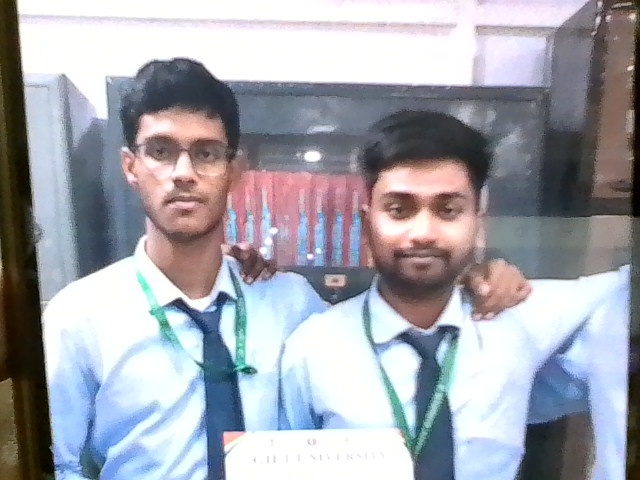real: (357, 117, 485, 298), (124, 73, 244, 243)
